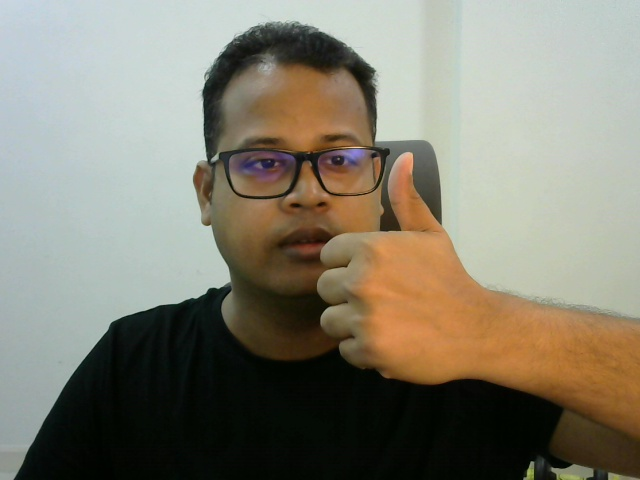ThumbsUp: (317, 148, 463, 384)
